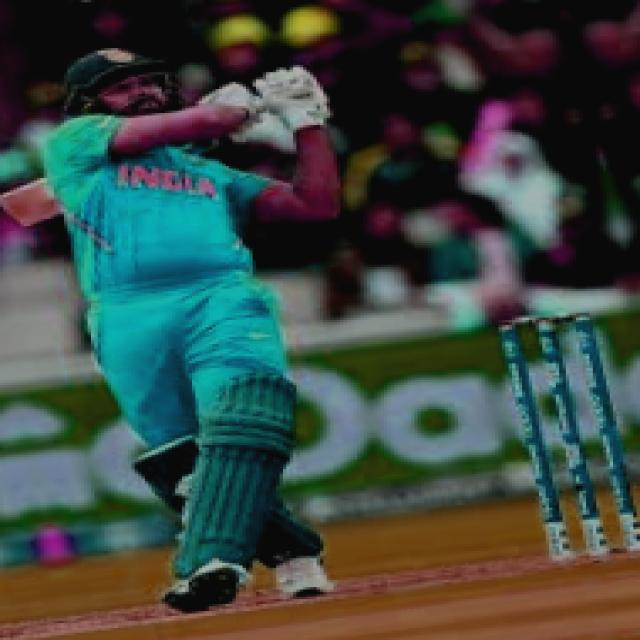toe: (0, 193, 41, 236)
